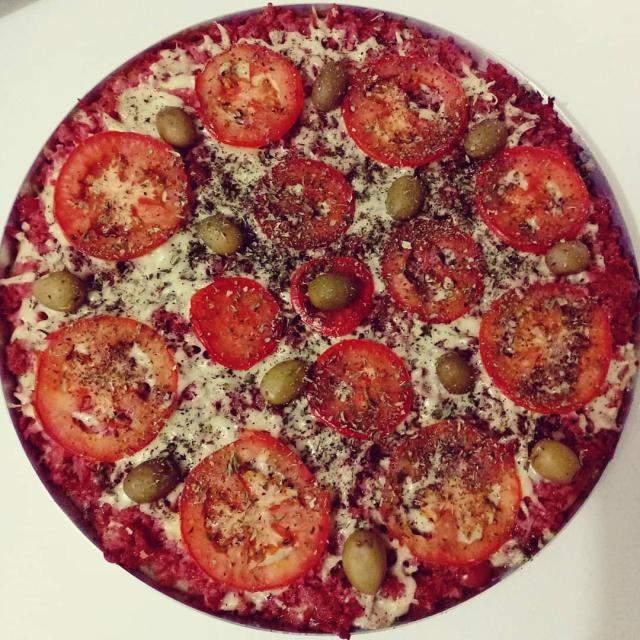green_olives: (340, 524, 389, 595), (28, 272, 94, 314), (260, 359, 312, 407), (126, 458, 182, 500), (530, 441, 583, 484), (154, 108, 200, 147), (386, 178, 428, 220), (198, 218, 245, 253), (310, 274, 358, 307), (314, 65, 347, 112), (435, 352, 472, 393), (546, 240, 590, 274), (465, 120, 505, 156)
pepperoni: (290, 255, 377, 337)
pizza: (0, 7, 640, 638)
tomatoes: (181, 435, 334, 593), (28, 316, 181, 463), (384, 420, 520, 558), (52, 130, 190, 260), (480, 284, 612, 414), (344, 56, 464, 168), (196, 44, 304, 148), (480, 150, 587, 250), (310, 340, 414, 440), (385, 224, 483, 323), (185, 276, 280, 373), (255, 160, 354, 247)
